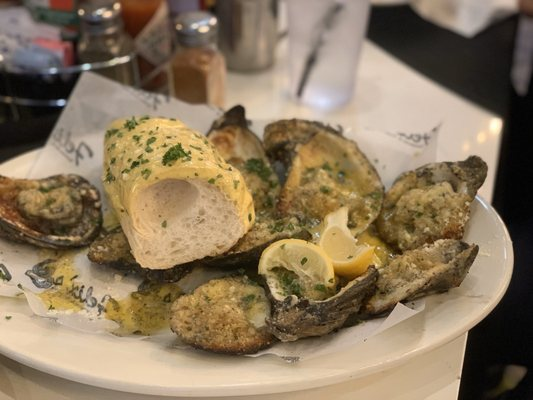burger: (170, 10, 227, 111)
curry: (4, 10, 532, 399)
